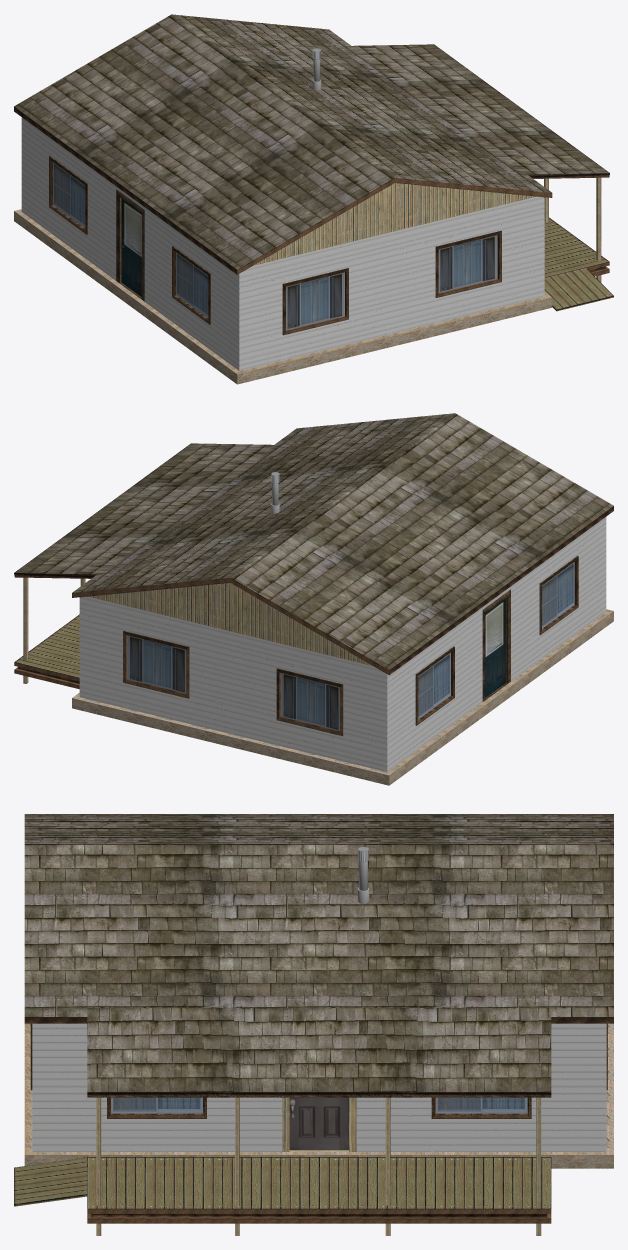
The model's file is ranch_house.glb.
3 views of the same model, one above another, from view 1: azimuth 30°, elevation 25°; view 2: azimuth 150°, elevation 25°; view 3: azimuth 270°, elevation 25° (orthographic). The views are drawn at different scales.
Visible parts, largest first — view 1: ranch_house; view 2: ranch_house; view 3: ranch_house.
Boxes of the visible parts, x1,y1,x2,y2 form: ranch_house: (14,14,613,384); ranch_house: (14,413,613,785); ranch_house: (14,814,613,1235).
Size of the model in its own units: 8.14 by 3.99 by 8.09.
8 materials, 8 textured.
